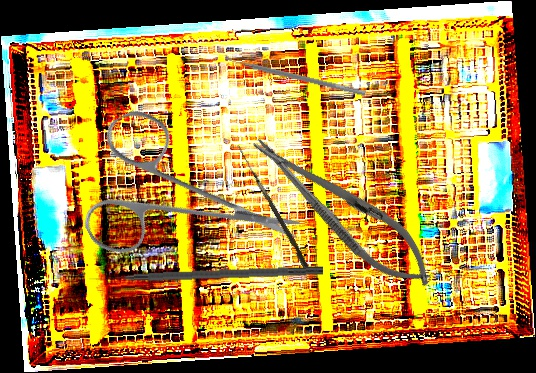Hook Surgical: (231, 144, 312, 270), (88, 263, 324, 285)
Iris Scissors: (46, 65, 306, 325)
Needle Holder: (239, 119, 447, 302)
Spatula Surgical: (222, 51, 368, 97)
